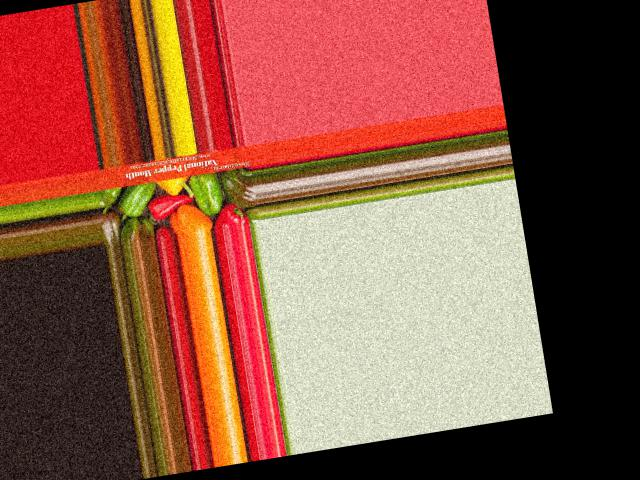bell_pepper: (220, 166, 257, 211)
